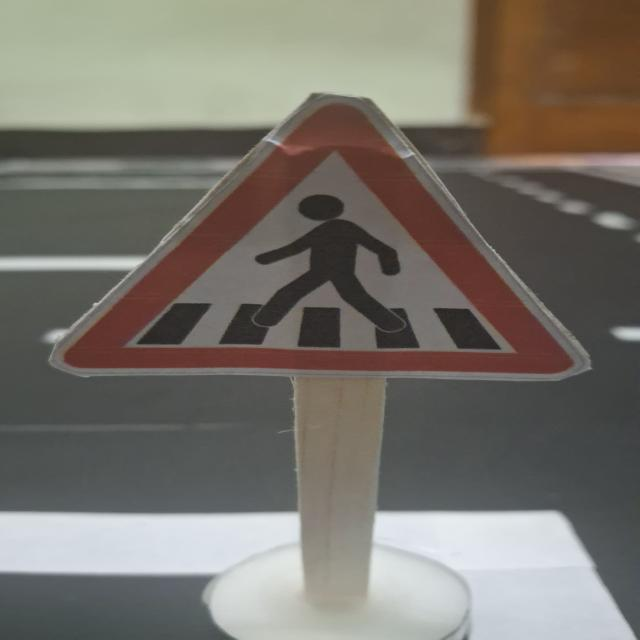Rambu Penyebrangan: (53, 94, 584, 374)
